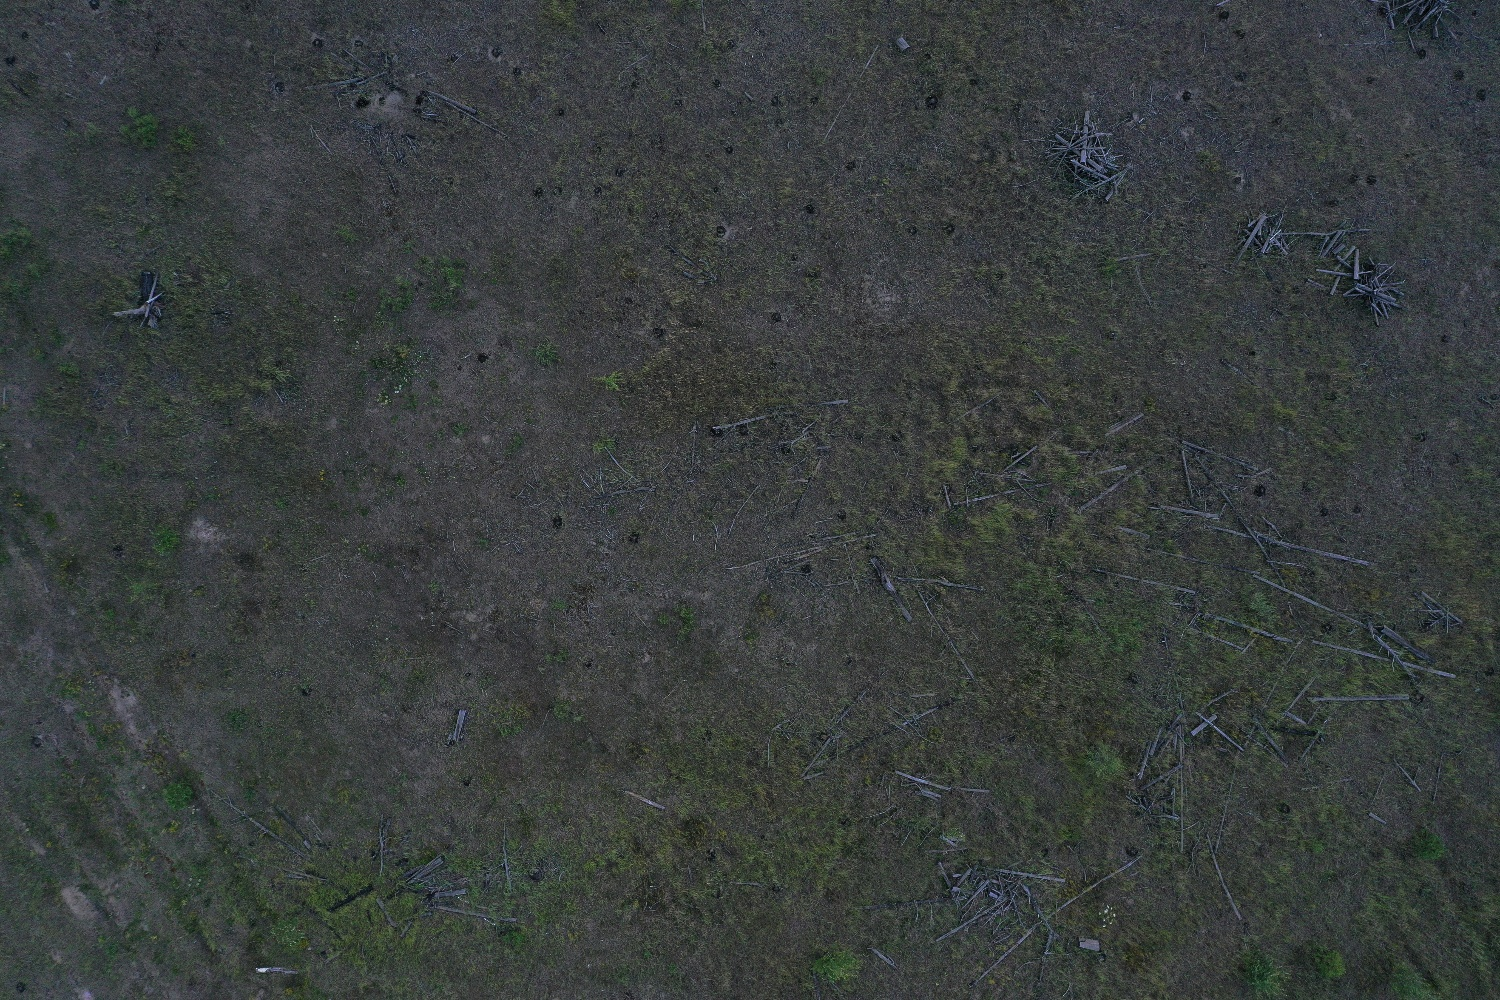branches: (929, 860, 1065, 963), (1050, 110, 1134, 206), (1375, 1, 1467, 52), (1342, 261, 1408, 328), (1307, 231, 1371, 295), (1230, 206, 1294, 268)
